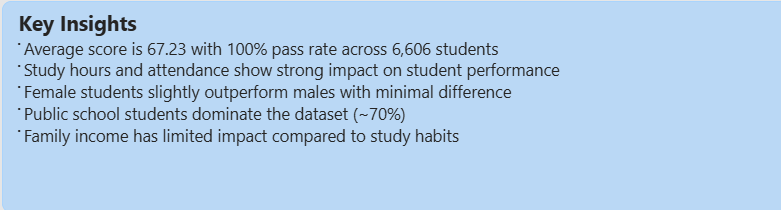

Layout of this report page (visuals, bound fields, positions):
{"tool":"powerbi","page":{"name":"Key Insights","canvas":[1280,720],"ordinal":1},"visuals":[{"type":"textbox","box":[16,16,1248,272],"z":0}]}

Visuals, with their boxes on the page's 1280x720 design canvas (x1, y1, x2, y2). These are canvas units, not pixel positions in the 781x210 screenshot, which may show the page scaled, cropped or inside an application window:
textbox: bbox=(16, 16, 1264, 288)
